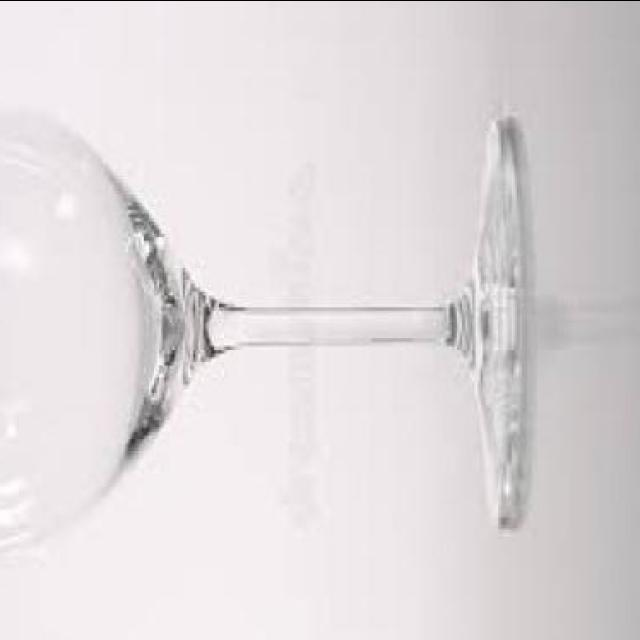kaca: (0, 118, 525, 563)
